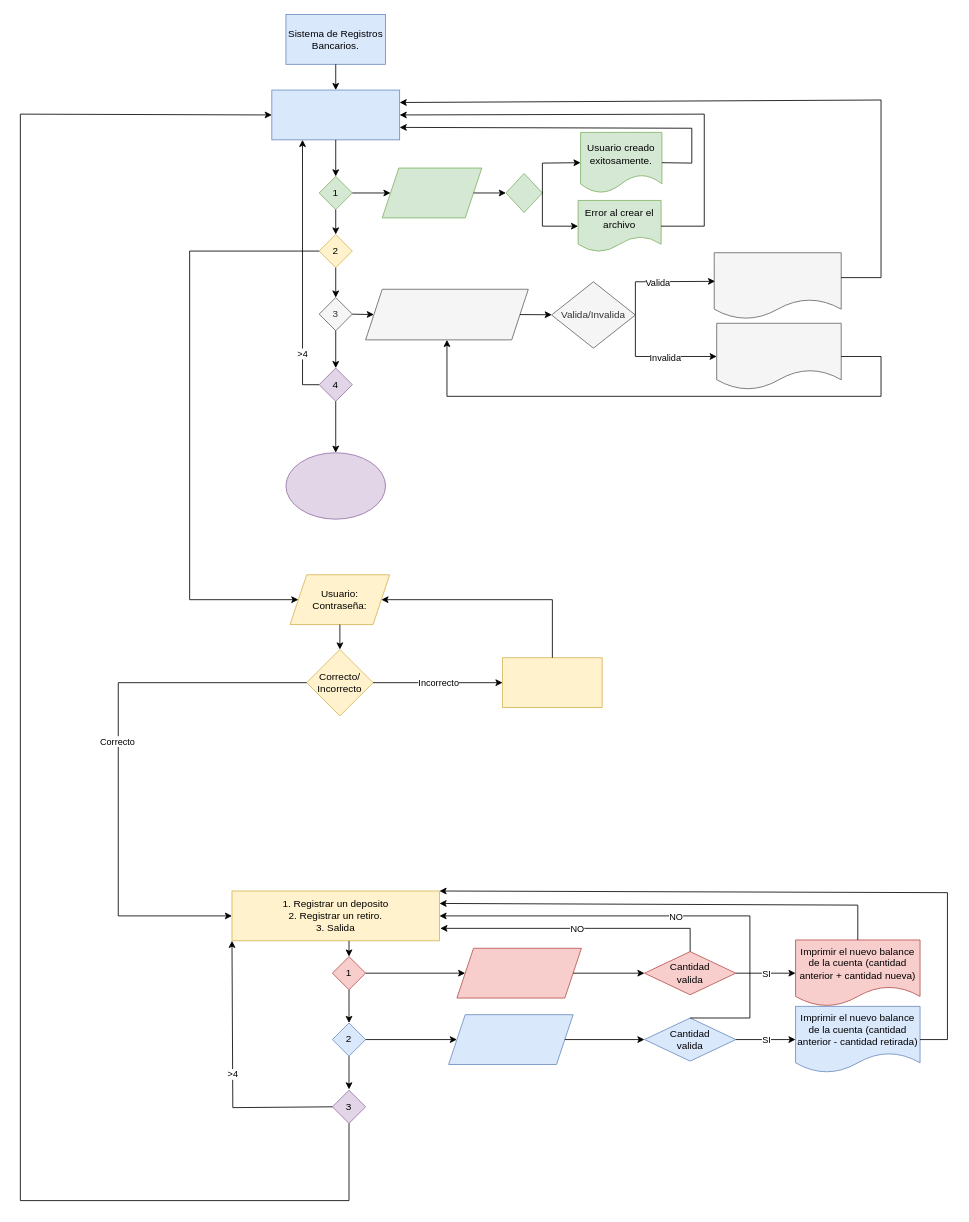
The diagram is 969 pixels wide and 1222 high, and some of its shapes have lost their labels. The centre of each missing label's shape, as x and y in pixels:
"Ingrese un usuario y/o contraseña correctas": (552,682)
1. Registrase 2. Iniciar Sesión 3. Modo administrador 4. Salir: (335,114)
FIN: (335,485)
Imprima todas las transacciones realizadas por los usuarios.: (777,285)
Ingrese credenciales validas para administrador: (778,356)
Ingrese la cantidad del deposito: (518,972)
Ingrese la cantidad del retiro: (510,1039)
Ingrese usuario y contraseña: (431,192)
Ingrese usuario y contraseña validos para administrador: (446,314)
